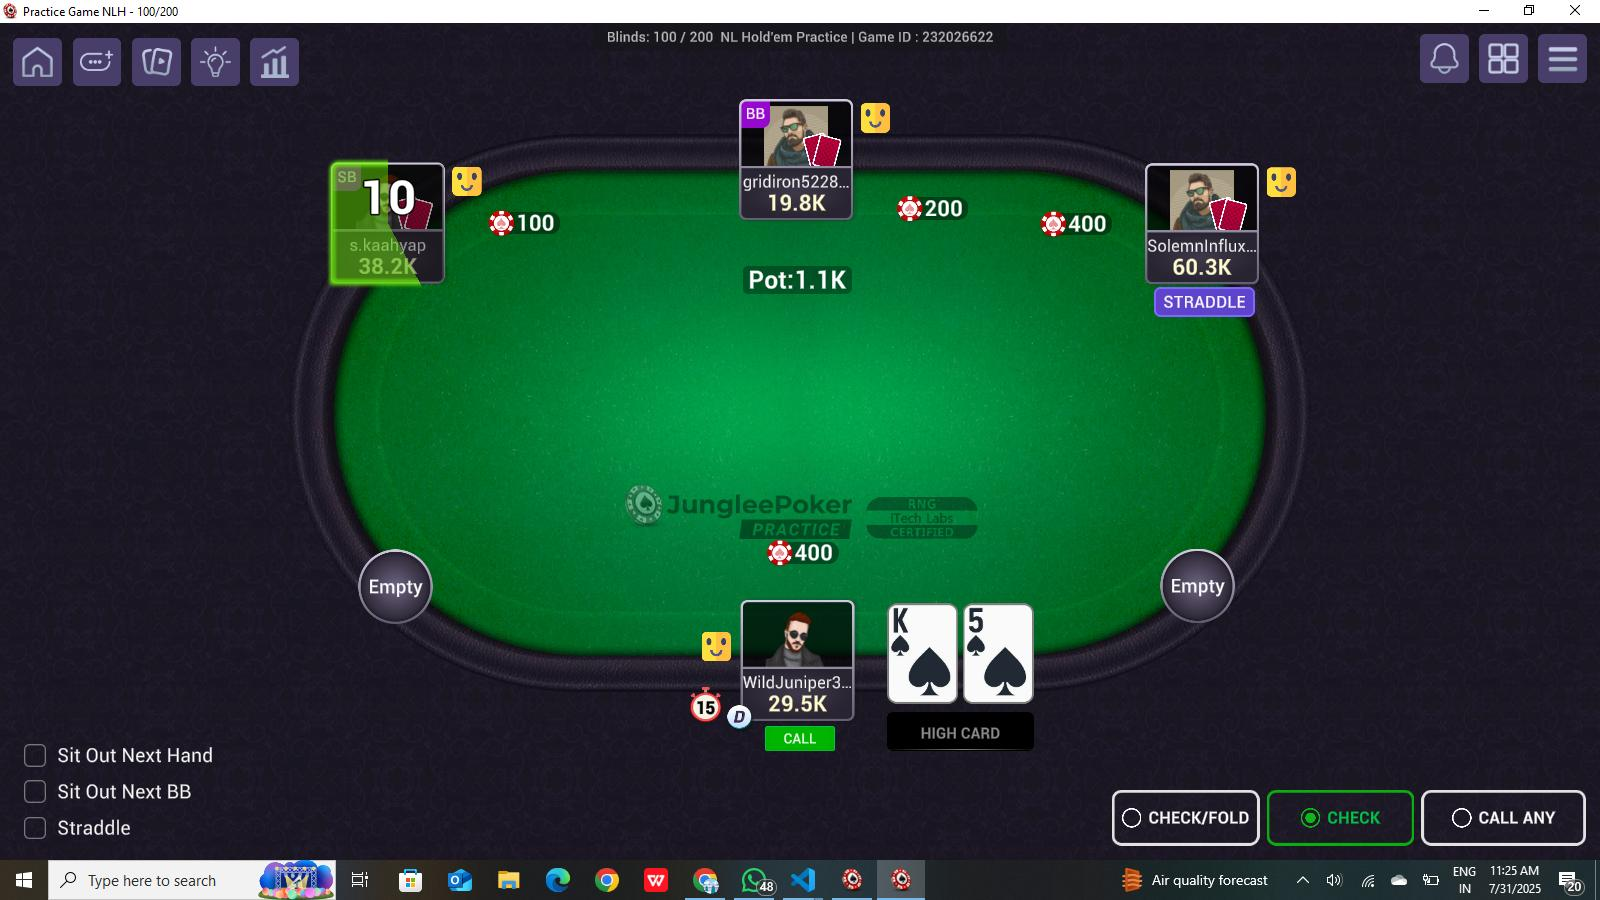card1_rank: (888, 601, 948, 637)
card1_suite_spades: (908, 641, 955, 705)
card2_rank: (960, 604, 1025, 641)
card2_suite_spades: (980, 643, 1030, 708)
game_id: (852, 24, 1002, 53)
my_bet: (766, 536, 840, 566)
my_stack: (742, 689, 851, 724)
position_BB: (738, 97, 773, 137)
position_SB: (327, 160, 369, 197)
total_pot: (742, 260, 856, 298)
villian2_bet: (486, 209, 555, 244)
villian2_name: (330, 226, 442, 260)
villian2_stack: (336, 251, 443, 285)
villian3_bet: (896, 197, 967, 226)
villian3_name: (738, 167, 854, 195)
villian3_stack: (738, 185, 848, 223)
villian4_bet: (1032, 209, 1107, 240)
villian4_name: (1144, 229, 1257, 258)
villian4_stack: (1148, 248, 1255, 282)
